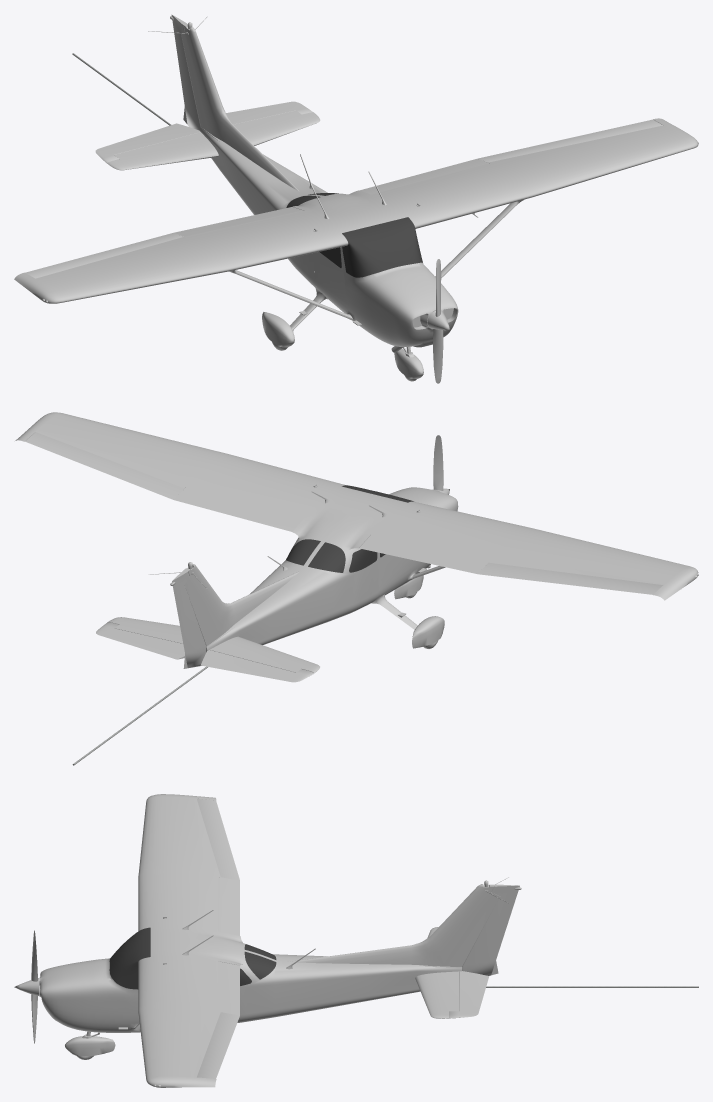
File: Cessna.obj
3 views of the same model, one above another, from view 1: azimuth 30°, elevation 25°; view 2: azimuth 150°, elevation 25°; view 3: azimuth 270°, elevation 25° (orthographic). The views are drawn at different scales.
Visible parts, largest first — view 1: Hull, Glass, Propeller; view 2: Hull, Glass, Propeller; view 3: Hull, Glass, Propeller.
Boxes of the visible parts, left/top/right/bottom form: Hull: left=14, top=14, right=698, bottom=381; Glass: left=286, top=193, right=422, bottom=277; Propeller: left=427, top=259, right=449, bottom=383; Hull: left=15, top=412, right=698, bottom=682; Glass: left=286, top=485, right=413, bottom=572; Propeller: left=433, top=435, right=449, bottom=494; Hull: left=39, top=794, right=519, bottom=1087; Glass: left=109, top=927, right=276, bottom=989; Propeller: left=14, top=930, right=38, bottom=1043.
Bounding box in the file's own units: 12.6 × 3.62 × 12.56.
